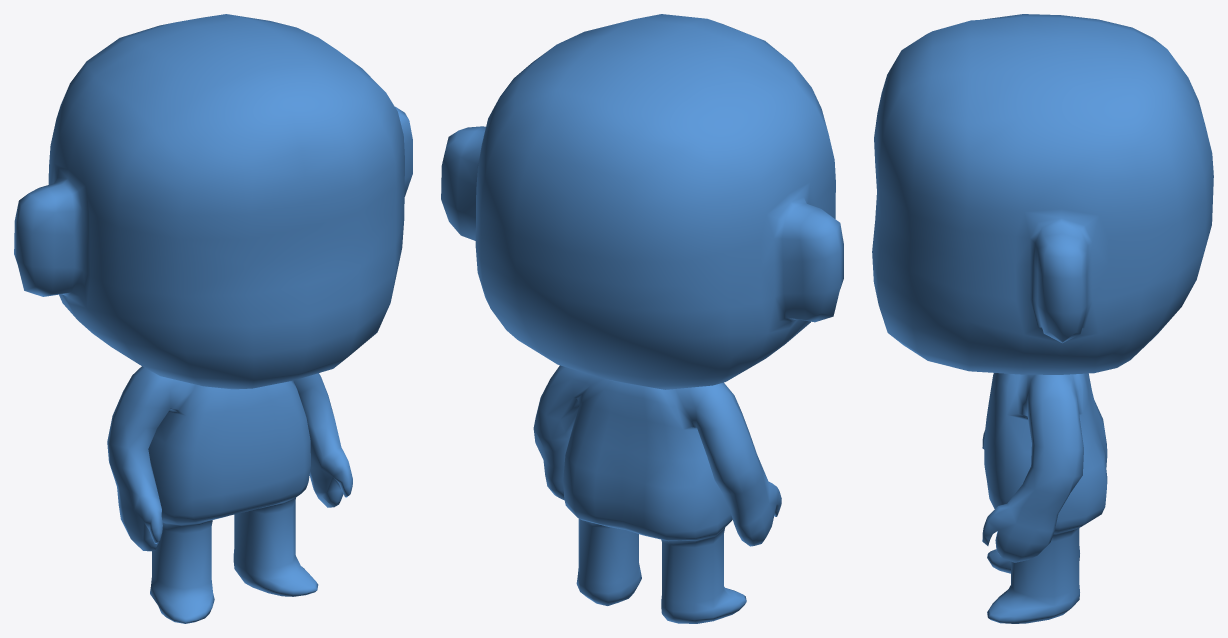
File: StickMan 08.fbx
3 renders of one model, left to right at view 1: azimuth 30°, elevation 25°; view 2: azimuth 150°, elevation 25°; view 3: azimuth 270°, elevation 25°, orthographic.
Visible parts, largest first — view 1: Character; view 2: Character; view 3: Character.
Part boxes in pixels (left/top/right/bottom): Character: left=14, top=14, right=412, bottom=623; Character: left=441, top=14, right=843, bottom=623; Character: left=872, top=14, right=1213, bottom=623.
Bounding box in the file's own units: 60 × 80 × 45.
